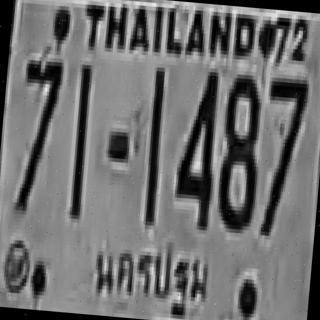N01: (141, 67, 165, 225), (67, 62, 91, 217)
N04: (172, 66, 220, 226)
N07: (256, 73, 307, 234), (12, 56, 62, 213), (258, 73, 307, 215)
N08: (213, 70, 264, 230)
P28: (82, 232, 214, 320)
